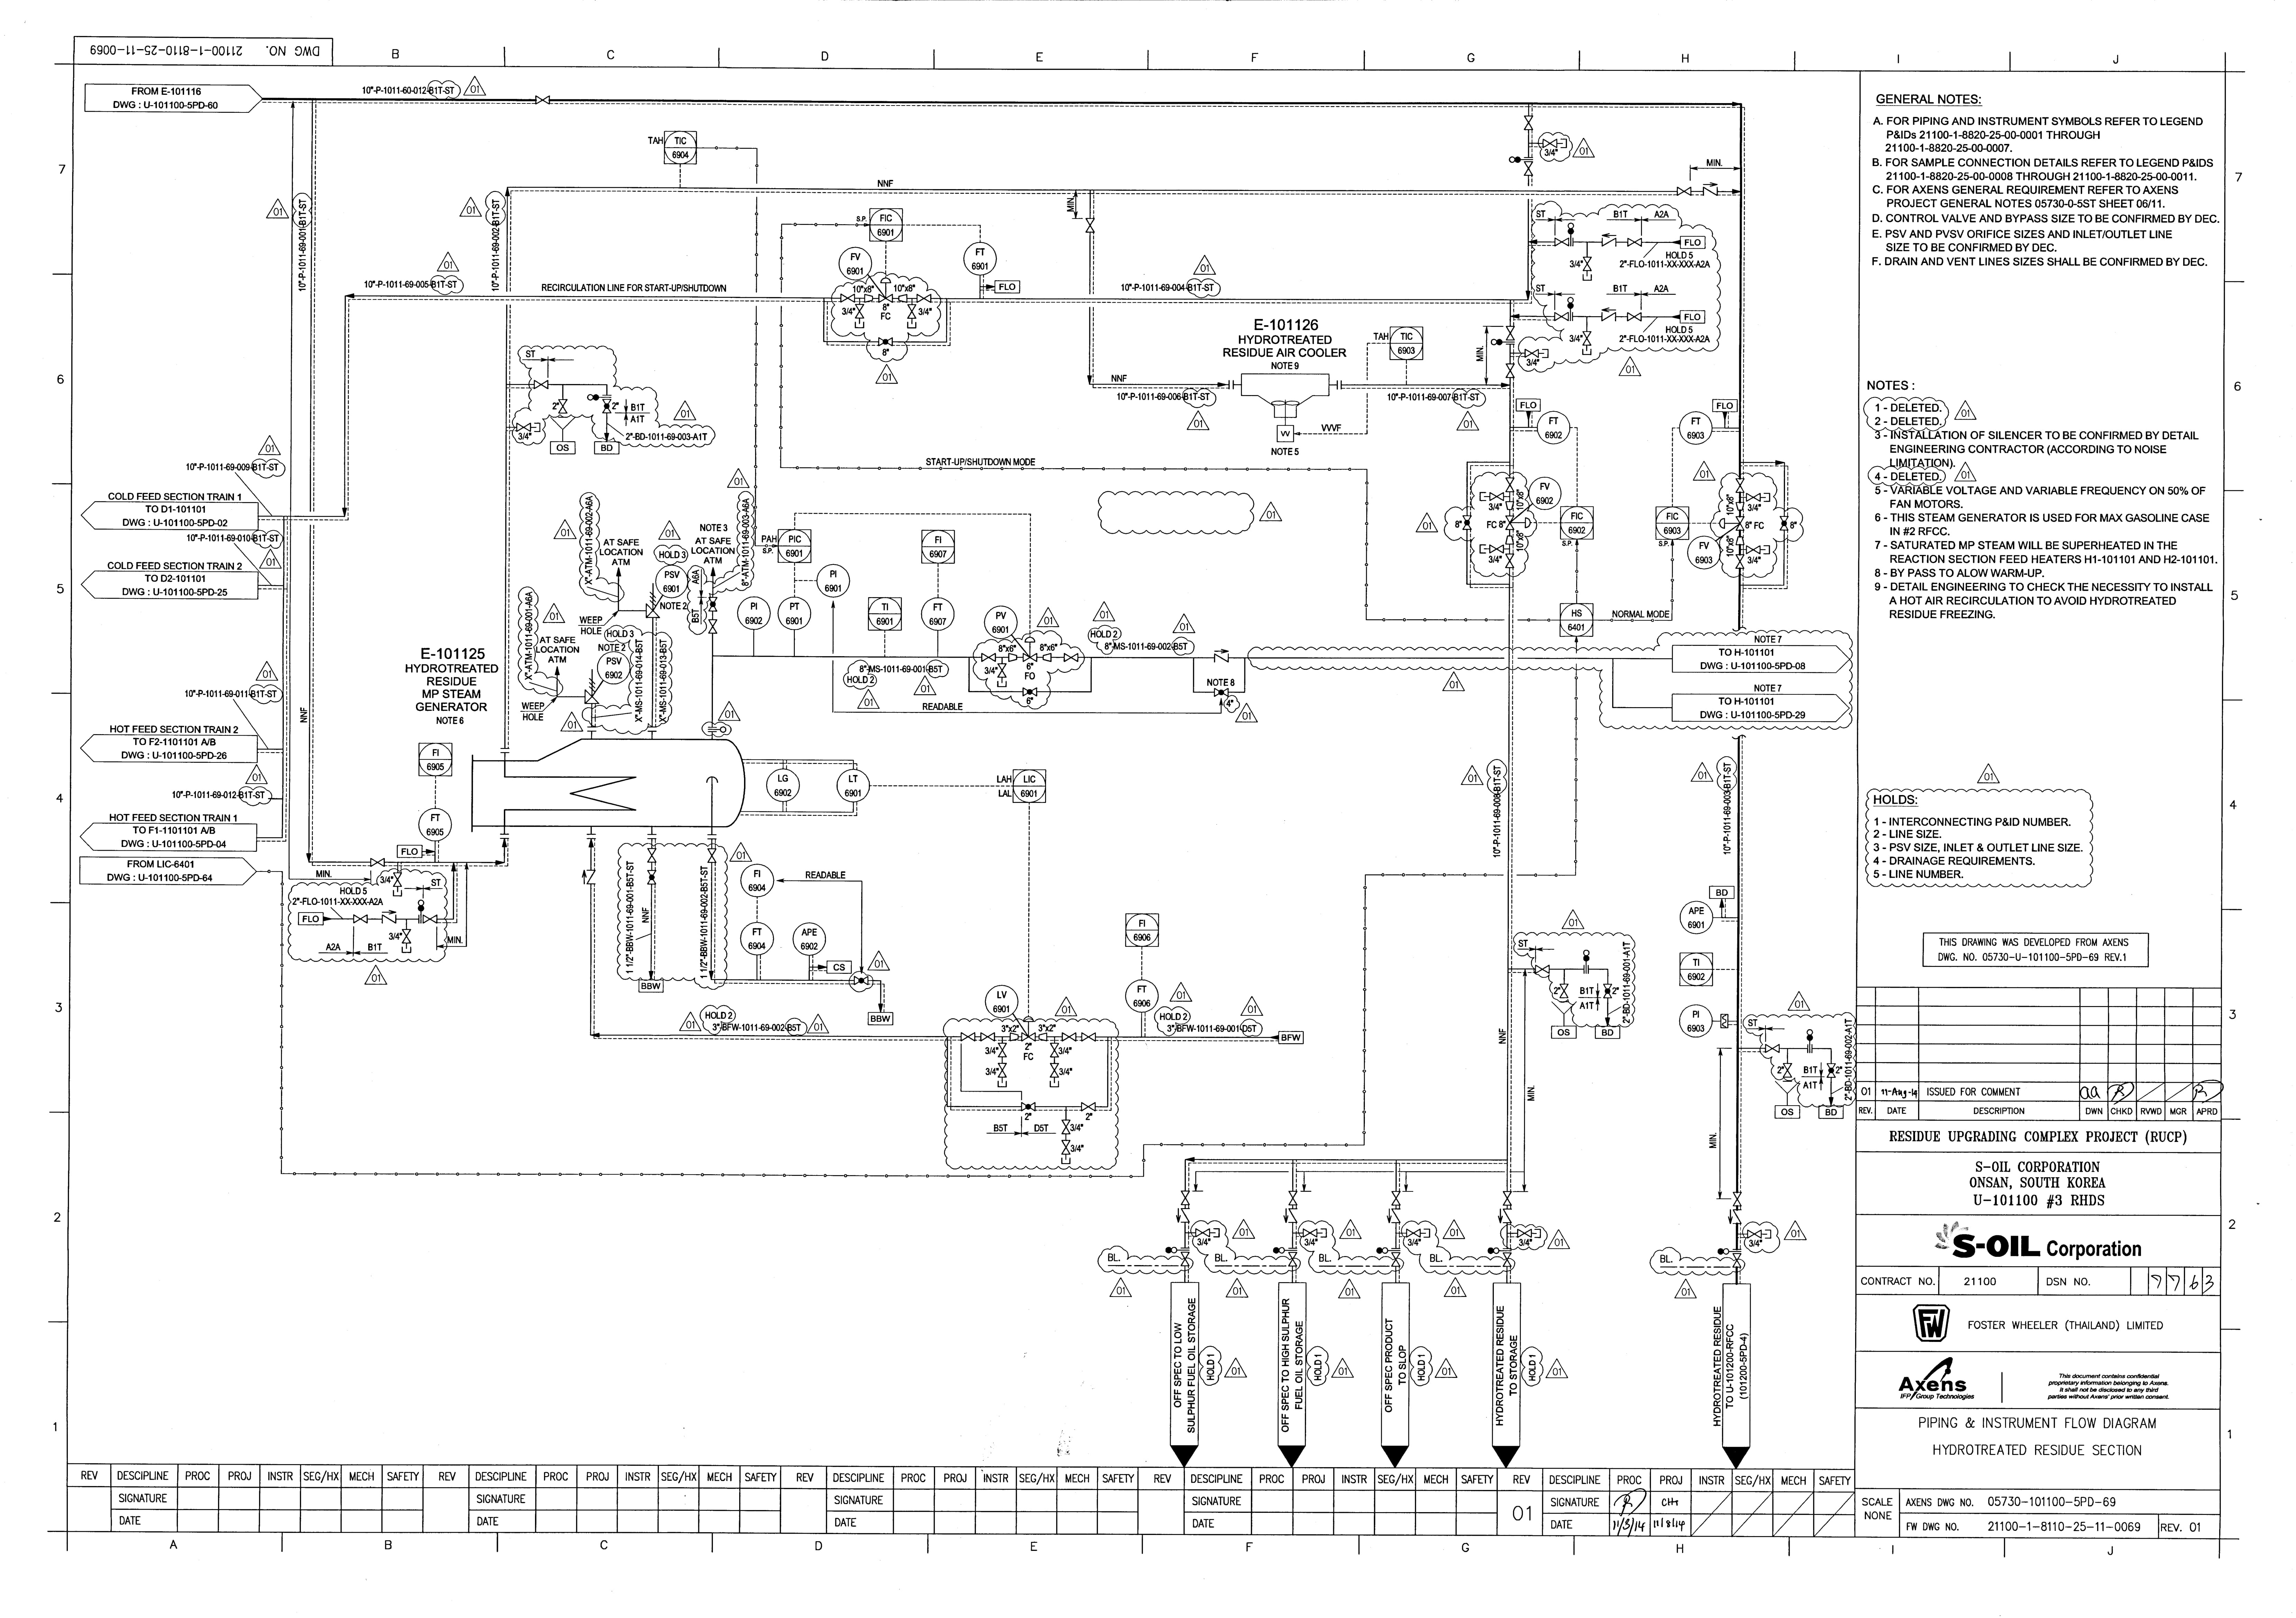NAS: (417, 741, 457, 781), (417, 807, 457, 841), (1678, 1005, 1716, 1038), (1378, 1443, 1413, 1469), (1951, 1233, 1977, 1263), (729, 842, 757, 865), (559, 711, 583, 734), (1550, 1024, 1578, 1040), (1350, 1256, 1370, 1277), (580, 867, 599, 888), (462, 646, 487, 662), (264, 44, 289, 58), (1273, 399, 1301, 412), (583, 690, 602, 707), (1387, 1206, 1405, 1226), (1497, 1206, 1515, 1226), (1940, 1219, 1958, 1236), (1389, 1257, 1406, 1275), (1177, 1206, 1193, 1226), (644, 602, 660, 620), (1590, 664, 1606, 681), (1284, 1208, 1301, 1224), (1312, 1264, 1331, 1278), (1226, 1285, 1245, 1299), (382, 911, 398, 926), (1501, 1189, 1513, 1208), (1531, 643, 1548, 655), (1718, 1012, 1730, 1030), (2086, 1084, 2100, 1098), (1963, 1417, 1977, 1431), (611, 629, 629, 639), (1546, 215, 1564, 226), (1473, 664, 1490, 674), (708, 725, 727, 734), (1632, 215, 1652, 224), (1632, 291, 1652, 299), (2046, 1194, 2056, 1210), (1107, 1254, 1123, 1264), (1285, 397, 1301, 408), (1730, 734, 1748, 742), (2110, 1086, 2128, 1094), (1319, 1252, 1331, 1264), (1974, 1159, 1984, 1173), (1408, 1238, 1422, 1249), (1060, 1156, 1074, 1166), (1517, 1242, 1531, 1252), (497, 834, 513, 842), (1580, 986, 1595, 995), (1580, 1002, 1595, 1010), (399, 946, 415, 954), (415, 884, 431, 893), (1163, 1245, 1179, 1254), (1518, 1238, 1534, 1247), (1487, 1245, 1503, 1254), (1566, 222, 1576, 235), (1559, 1007, 1569, 1019), (1212, 1228, 1222, 1240), (706, 776, 720, 784), (56, 581, 65, 595), (1508, 156, 1522, 165), (1653, 285, 1671, 292), (1622, 721, 1636, 730), (417, 898, 426, 912), (1305, 1238, 1319, 1247), (1753, 522, 1767, 531), (550, 611, 560, 622), (643, 601, 653, 611), (1685, 725, 1701, 732), (1345, 1287, 1356, 1298), (615, 567, 623, 580), (184, 688, 196, 697), (1688, 165, 1701, 173), (585, 834, 597, 842), (646, 832, 659, 841), (1827, 1096, 1835, 1108), (1287, 1245, 1299, 1254), (1375, 1247, 1389, 1254), (1271, 399, 1285, 406), (1534, 1226, 1541, 1240), (1730, 187, 1741, 196), (1601, 306, 1618, 312), (1524, 410, 1534, 419), (1482, 646, 1492, 655), (1595, 989, 1601, 1007), (1764, 1229, 1772, 1240), (1762, 545, 1771, 555), (426, 848, 436, 856), (1666, 334, 1678, 341), (1569, 1002, 1576, 1014), (1604, 1016, 1611, 1028), (392, 890, 405, 897), (753, 870, 762, 879), (1732, 165, 1741, 173), (1454, 520, 1462, 529), (1550, 1000, 1559, 1009), (1622, 1016, 1630, 1024), (1271, 1247, 1280, 1256), (718, 727, 729, 734), (1321, 1228, 1328, 1238), (1764, 492, 1771, 503), (1525, 1224, 1536, 1231), (1518, 1224, 1529, 1231), (278, 881, 287, 888), (1641, 291, 1650, 298), (1278, 1247, 1285, 1256), (1480, 1254, 1489, 1261), (1462, 618, 1469, 625), (1555, 292, 1564, 298), (1471, 646, 1478, 651), (2082, 1089, 2088, 1096), (268, 869, 271, 876)
butterfly0: (1019, 1101, 1037, 1112), (853, 975, 869, 986)
butterfly90: (601, 397, 613, 415), (1825, 1061, 1837, 1079), (708, 595, 718, 613), (646, 869, 657, 886), (1602, 982, 1613, 1000), (1779, 515, 1790, 532)
gategate90: (877, 277, 895, 305)
reduce0: (1007, 653, 1018, 664), (1009, 1031, 1019, 1042), (897, 294, 909, 303)
reduce180: (1042, 651, 1053, 664), (863, 294, 874, 303), (1039, 1033, 1049, 1042)
reduce270: (1736, 501, 1746, 511), (1504, 501, 1515, 511)
reduce90: (401, 928, 413, 946), (1504, 534, 1515, 546), (1736, 536, 1746, 546)
valvecontrol0: (1504, 513, 1532, 531)
valvecontrol180: (1718, 515, 1746, 532)
valvecontrol90: (1021, 636, 1039, 664), (1019, 1016, 1037, 1042)
valvegate0: (1077, 1031, 1098, 1044), (1079, 1100, 1096, 1114), (1625, 236, 1645, 249), (979, 1031, 998, 1044), (979, 651, 998, 664), (532, 378, 550, 390), (1534, 963, 1552, 975), (1676, 186, 1694, 198), (914, 292, 933, 303), (532, 95, 552, 105), (1553, 236, 1571, 247), (1524, 348, 1541, 359), (1489, 545, 1506, 555), (352, 914, 370, 925), (422, 914, 440, 925), (370, 858, 387, 869), (960, 1031, 977, 1042), (1060, 1031, 1077, 1042), (839, 292, 856, 303), (515, 422, 532, 433), (1764, 1044, 1781, 1054), (1541, 138, 1559, 149), (1744, 545, 1762, 555), (1301, 1228, 1319, 1238), (1194, 1228, 1212, 1238), (1405, 1228, 1422, 1238), (1517, 1228, 1534, 1238), (1744, 492, 1762, 503), (1553, 312, 1569, 322), (1627, 312, 1643, 322), (1063, 653, 1081, 662), (1746, 1229, 1764, 1238), (1489, 492, 1504, 501)
valvegate90: (1047, 1061, 1060, 1080), (1060, 1117, 1072, 1136), (1391, 1189, 1403, 1208), (997, 1059, 1007, 1080), (1504, 362, 1517, 380), (1504, 476, 1517, 494), (1047, 1042, 1060, 1059), (1060, 1138, 1072, 1156), (706, 848, 718, 865), (1581, 256, 1594, 273), (1084, 217, 1096, 235), (1504, 326, 1517, 341), (392, 870, 403, 888), (997, 1042, 1007, 1059), (907, 303, 918, 320), (855, 303, 865, 320), (646, 848, 657, 865), (708, 618, 718, 636), (557, 397, 567, 415), (1559, 982, 1569, 1000), (1524, 114, 1534, 131), (1524, 159, 1534, 177), (997, 662, 1007, 679), (1180, 1189, 1191, 1206), (1287, 1189, 1298, 1206), (1180, 1250, 1191, 1268), (1287, 1250, 1298, 1268), (1732, 1191, 1743, 1208), (1581, 331, 1592, 347), (1504, 553, 1515, 569), (1783, 1063, 1793, 1079), (1391, 1252, 1401, 1268), (1503, 1252, 1513, 1268), (1732, 1252, 1743, 1268), (1736, 553, 1744, 571), (1736, 478, 1744, 494)
